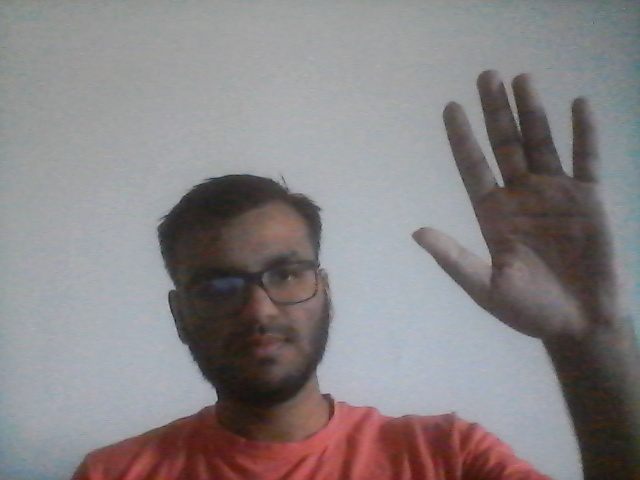Hello: (407, 64, 639, 348)
